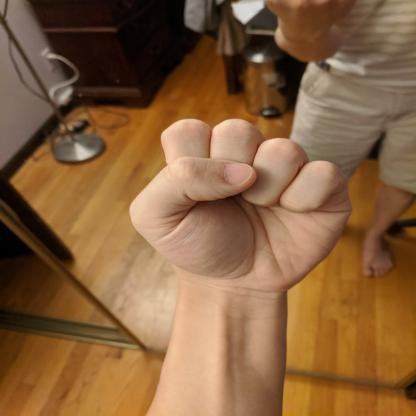S: (121, 115, 356, 298)
